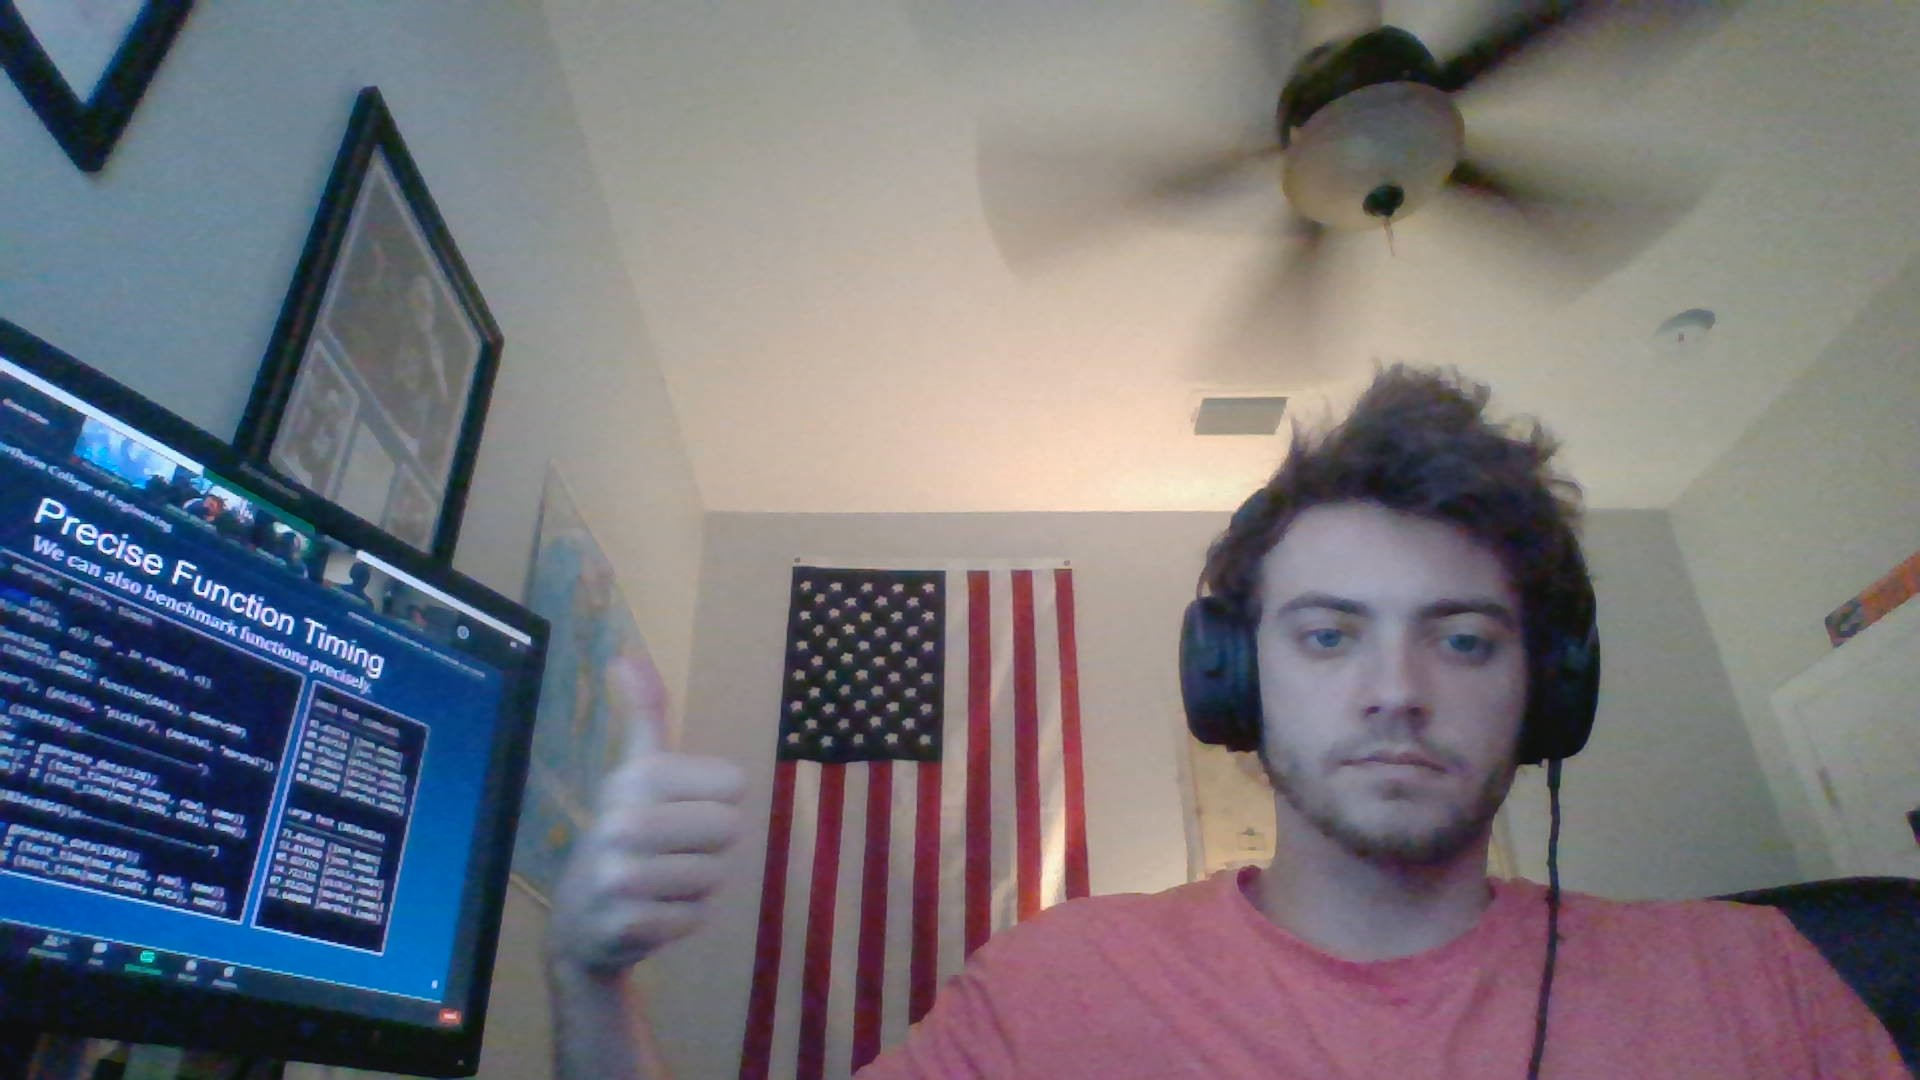Right Thumb Up: (509, 646, 793, 978)
